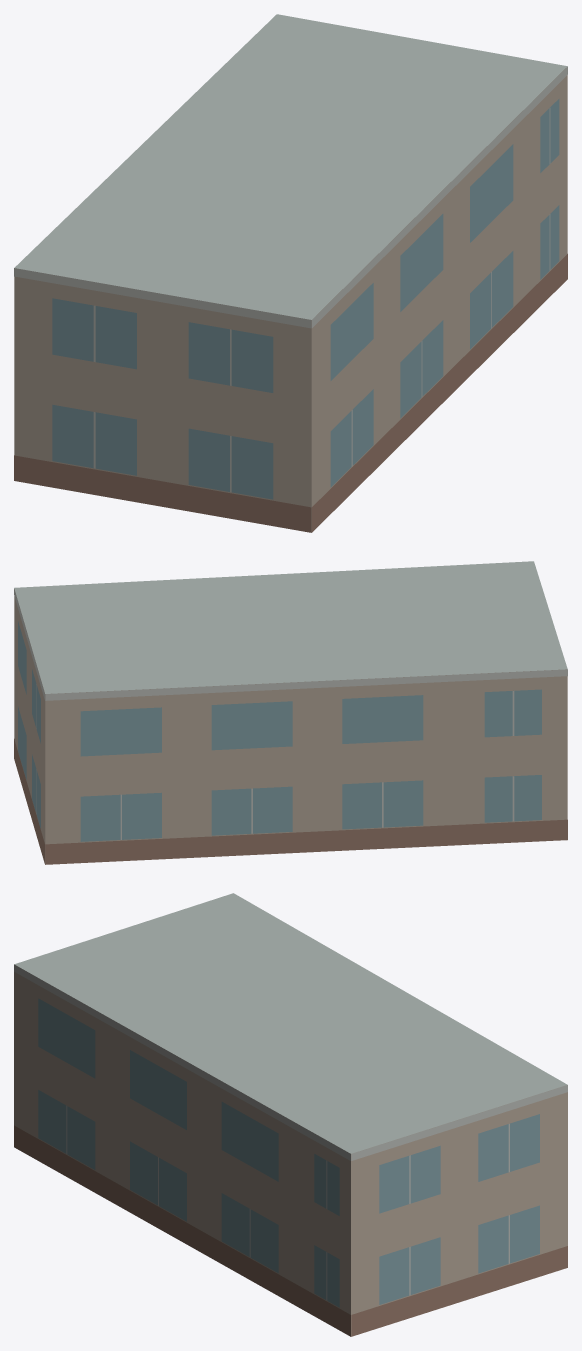
File: survey-upis-32850628.glb
The picture shows the model from 3 angles, top to bottom: view 1: azimuth 30°, elevation 25°; view 2: azimuth 150°, elevation 25°; view 3: azimuth 270°, elevation 25°; orthographic projection. The views are drawn at different scales.
Visible parts, largest first — view 1: survey-upis-32850628.tmp; view 2: survey-upis-32850628.tmp; view 3: survey-upis-32850628.tmp.
Boxes of the visible parts, left/top/right/bottom form: survey-upis-32850628.tmp: left=14, top=14, right=567, bottom=532; survey-upis-32850628.tmp: left=14, top=561, right=567, bottom=864; survey-upis-32850628.tmp: left=14, top=893, right=567, bottom=1336.
Bounding box in the file's own units: 18.66 × 6.1 × 16.74.
